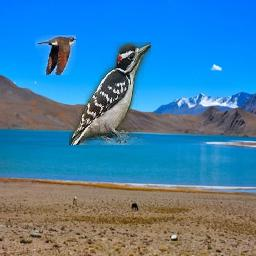Cuckoo: (36, 35, 77, 75)
Woodpecker: (69, 43, 151, 146)
